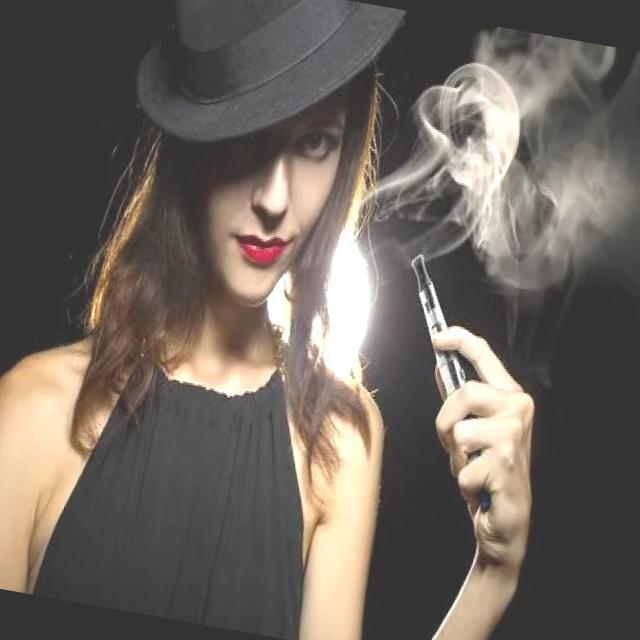smoke: (376, 238, 514, 454)
